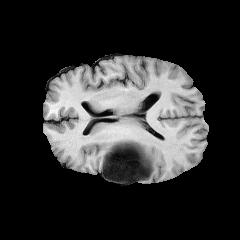glioma: (102, 138, 157, 182)
